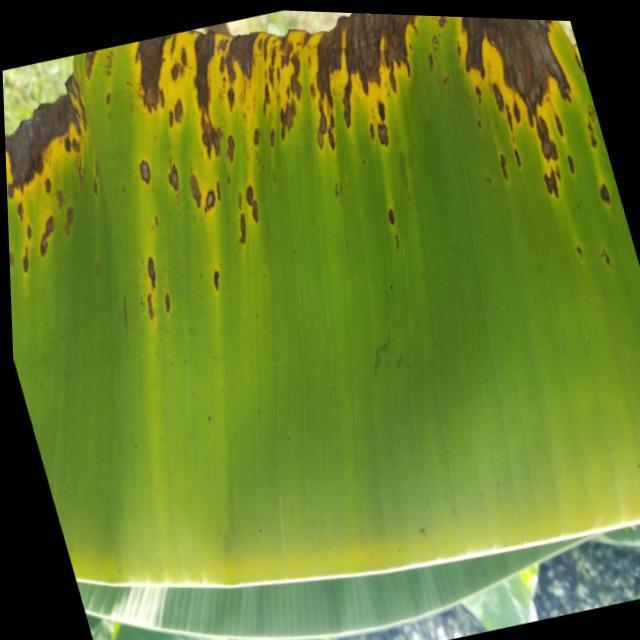Early_rust: (0, 1, 640, 350)
